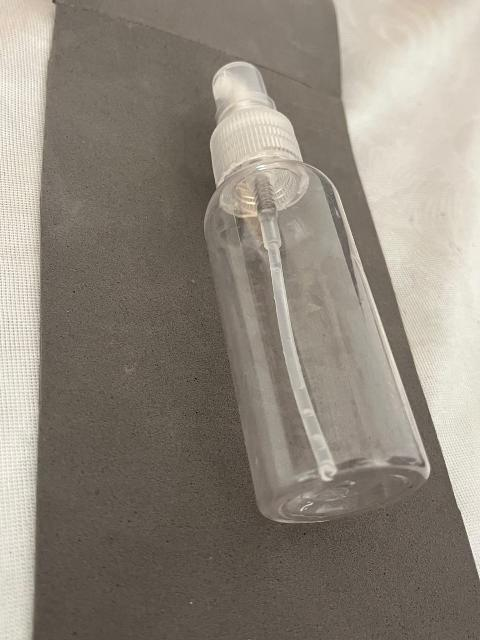PET: (165, 50, 469, 542)
